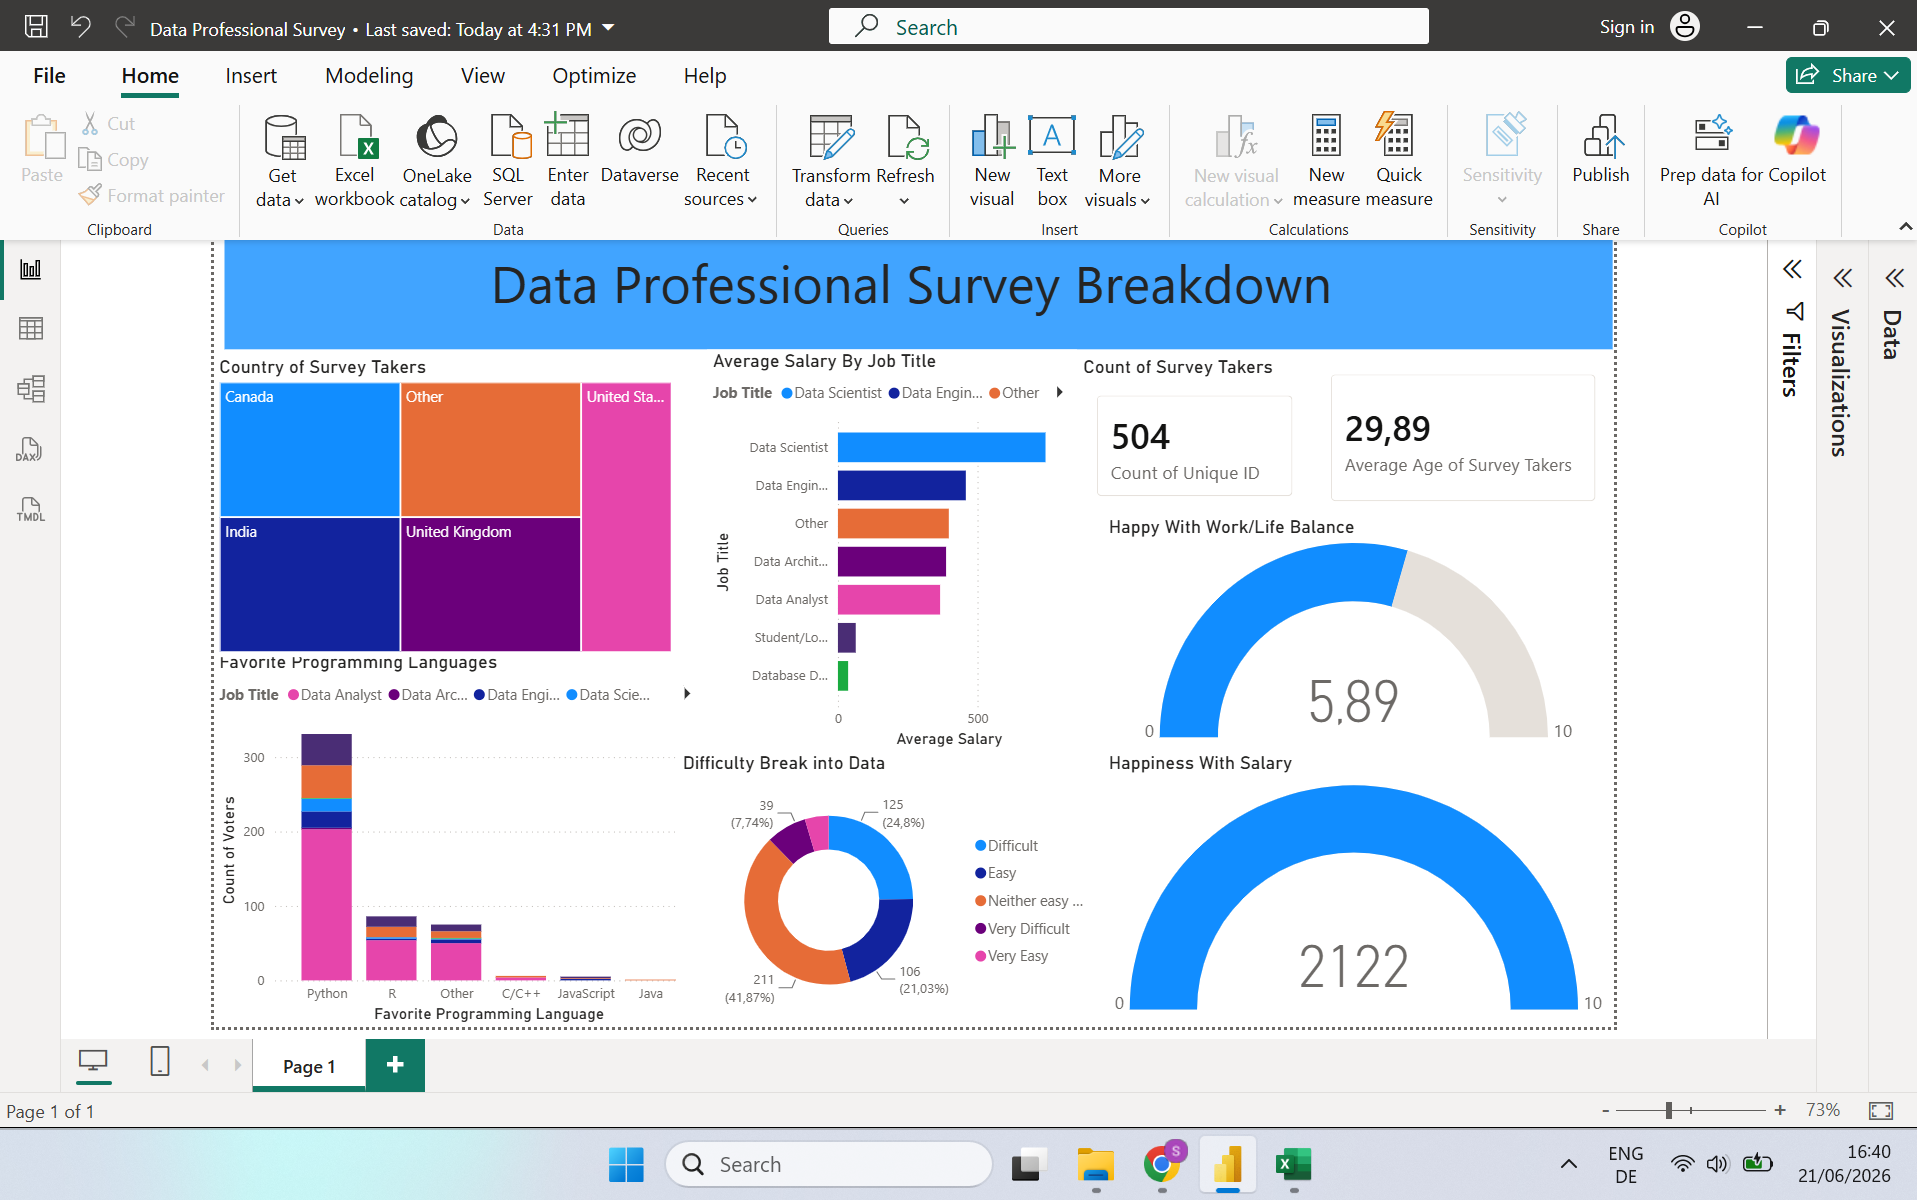

This screenshot's page, from the dashboard's own definition file:
{"tool":"powerbi","page":{"name":"Page 1","canvas":[1280,720],"ordinal":0},"visuals":[{"type":"textbox","box":[9.4,0,1269.9,100.2],"z":0},{"type":"cardVisual","title":"Count of Survey Takers","fields":{"Data":["Count(Data Professional Survey.Unique ID)"]},"box":[789.9,105.8,213.5,145.5],"z":1000},{"type":"cardVisual","fields":{"Data":["Avg(Data Professional Survey.Q10 - Current Age)"]},"box":[1004,106,276,150],"z":2000},{"type":"barChart","title":"Average Salary By Job Title","fields":{"Category":["Data Professional Survey.Q1 - Which Title Best Fits your Current Role?.1"],"Y":["Avg(Data Professional Survey.Average Salary Column)"],"Series":["Data Professional Survey.Q1 - Which Title Best Fits your Current Role?.1"]},"box":[451.7,100.2,338.3,368.5],"z":3000},{"type":"columnChart","title":"Favorite Programming Languages","fields":{"Category":["Data Professional Survey.Q5 - Favorite Programming Language.1"],"Y":["CountNonNull(Data Professional Survey.Q5 - Favorite Programming Language.1)"],"Series":["Data Professional Survey.Q1 - Which Title Best Fits your Current Role?.1"]},"box":[0,376,452,344],"z":4000},{"type":"treemap","title":"Country of Survey Takers","fields":{"Group":["Data Professional Survey.Q11 - Which Country do you live in?.1"],"Values":["Count(Data Professional Survey.Q11 - Which Country do you live in?.1)"]},"box":[0,105.8,423.3,275.9],"z":5000},{"type":"gauge","title":"Happy With Work/Life Balance","fields":{"Y":["Avg(Data Professional Survey.Q6 - How Happy are you in your Current Position with the following? (Coworkers))"],"MinValue":["Min(Data Professional Survey.Q6 - How Happy are you in your Current Position with the following? (Coworkers))1"],"MaxValue":["Max(Data Professional Survey.Q6 - How Happy are you in your Current Position with the following? (Coworkers))2"]},"box":[814,252,466,212],"z":6000},{"type":"gauge","title":"Happiness With Salary","fields":{"Y":["Sum(Data Professional Survey.Q6 - How Happy are you in your Current Position with the following? (Salary))"],"MinValue":["Min(Data Professional Survey.Q6 - How Happy are you in your Current Position with the following? (Salary))"],"MaxValue":["Max(Data Professional Survey.Q6 - How Happy are you in your Current Position with the following? (Salary))"]},"box":[814,468,466,252],"z":7000},{"type":"donutChart","title":"Difficulty Break into Data","fields":{"Y":["CountNonNull(Data Professional Survey.Q7 - How difficult was it for you to break into Data?)"],"Series":["Data Professional Survey.Q7 - How difficult was it for you to break into Data?"]},"box":[424,468,390,252],"z":8000}]}

Visuals, with their boxes on the page's 1280x720 design canvas (x1, y1, x2, y2). These are canvas units, not pixel positions in the 1917x1200 screenshot, which may show the page scaled, cropped or inside an application window:
textbox: box=[9, 0, 1279, 100]
"Count of Survey Takers" cardVisual: box=[790, 106, 1003, 251]
cardVisual - Avg(Data Professional Survey.Q10 - Current Age): box=[1004, 106, 1280, 256]
"Average Salary By Job Title" barChart: box=[452, 100, 790, 469]
"Favorite Programming Languages" columnChart: box=[0, 376, 452, 720]
"Country of Survey Takers" treemap: box=[0, 106, 423, 382]
"Happy With Work/Life Balance" gauge: box=[814, 252, 1280, 464]
"Happiness With Salary" gauge: box=[814, 468, 1280, 720]
"Difficulty Break into Data" donutChart: box=[424, 468, 814, 720]
